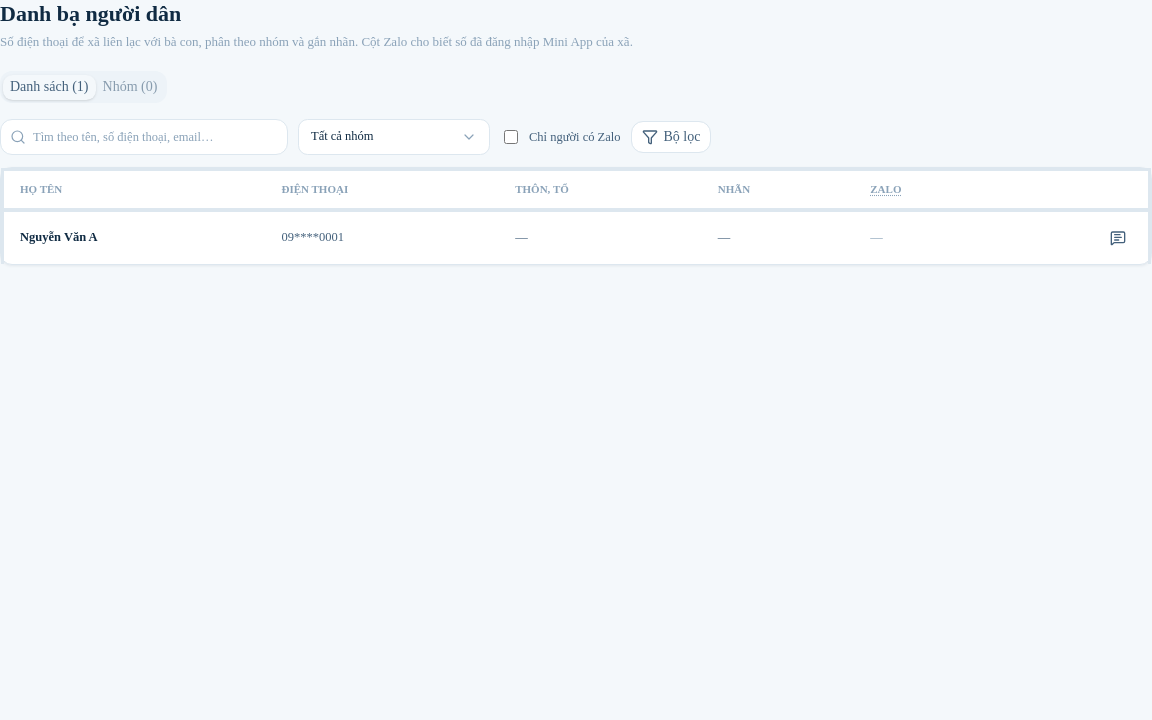
“Xem phản ánh” on the directory (citizen.read + feedback.read) › citizen.read + feedback.read only (no citizen.update): the row icon opens the list — the one way in for a reader
Click the button named "Xem phản ánh của Nguyễn Văn A": (1118, 238) x1=1104 y1=222 x2=1132 y2=254
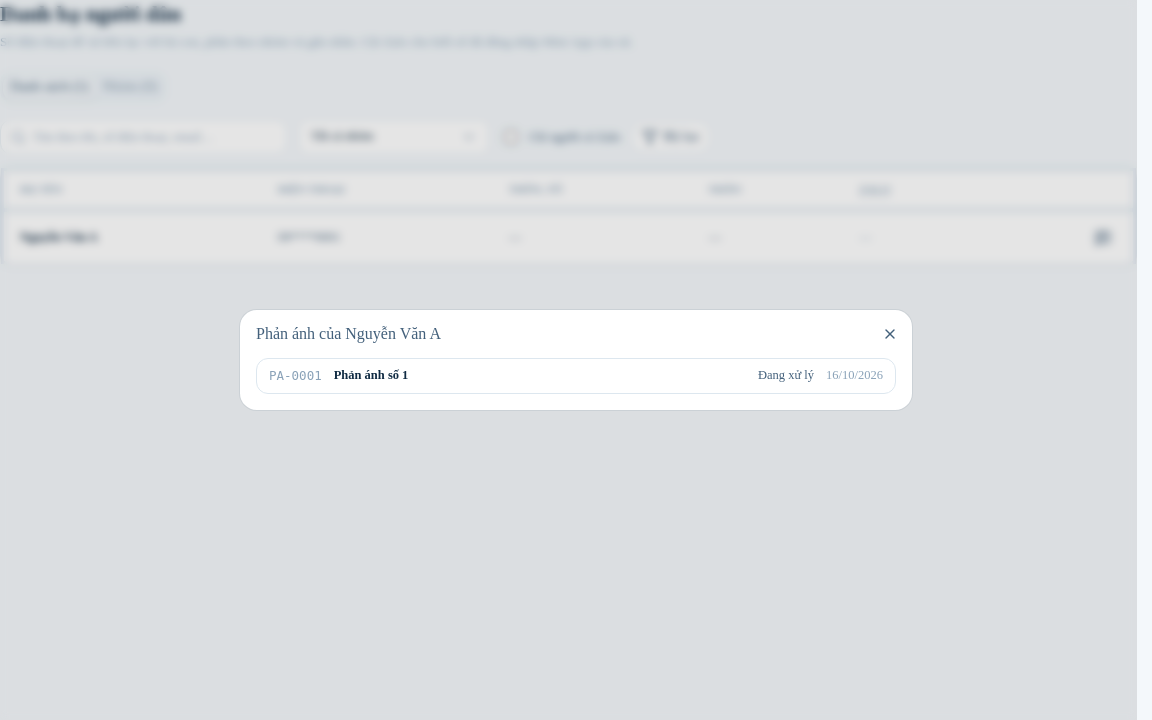
Check: the text "Phản ánh số 1" is shown, box x1=334 y1=368 x2=408 y2=382
